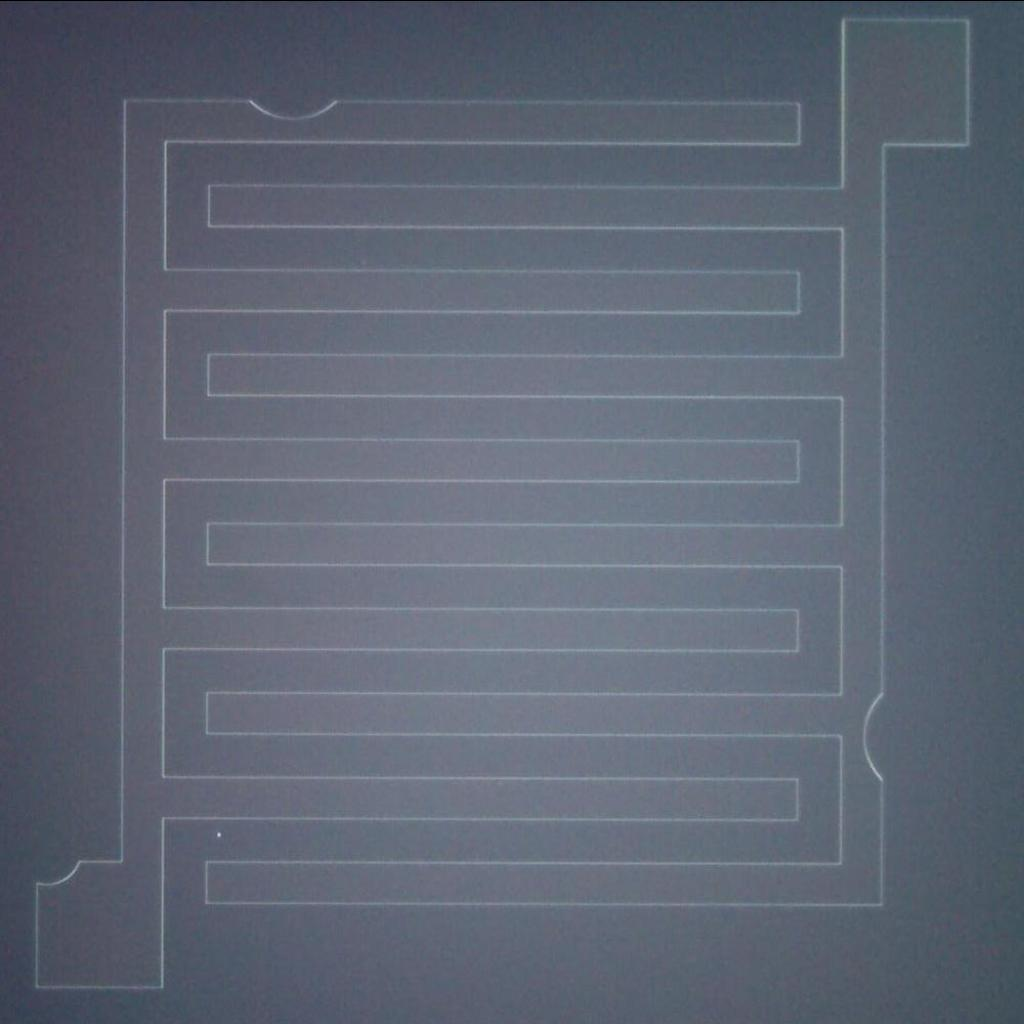curve circuit: (239, 79, 352, 130), (852, 675, 900, 791), (19, 846, 98, 894)
dot: (205, 822, 234, 849)
